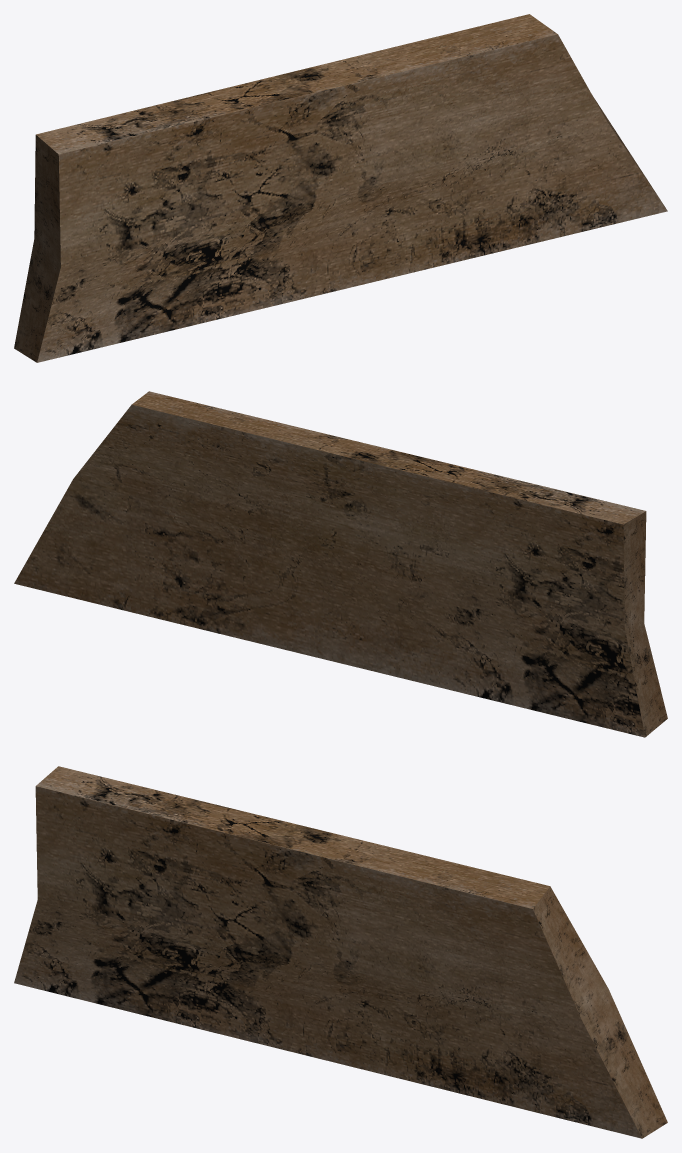
File: SM_Plank_01.fbx
The picture shows the model from 3 angles, top to bottom: view 1: azimuth 30°, elevation 25°; view 2: azimuth 150°, elevation 25°; view 3: azimuth 330°, elevation 25°; orthographic projection.
Parts seen in each view (by area): view 1: SM_Plank_01; view 2: SM_Plank_01; view 3: SM_Plank_01.
Boxes of the visible parts, x1=… form: SM_Plank_01: x1=14, y1=14, x2=667, y2=362; SM_Plank_01: x1=14, y1=391, x2=667, y2=737; SM_Plank_01: x1=14, y1=766, x2=667, y2=1138.
Size of the model in its own units: 63.58 by 20 by 4.
1 material, 1 textured.
